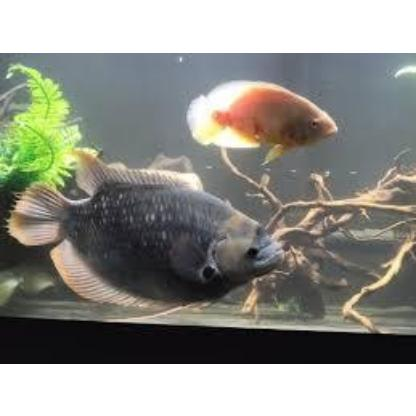gurame: (4, 155, 286, 313), (189, 76, 342, 154)
